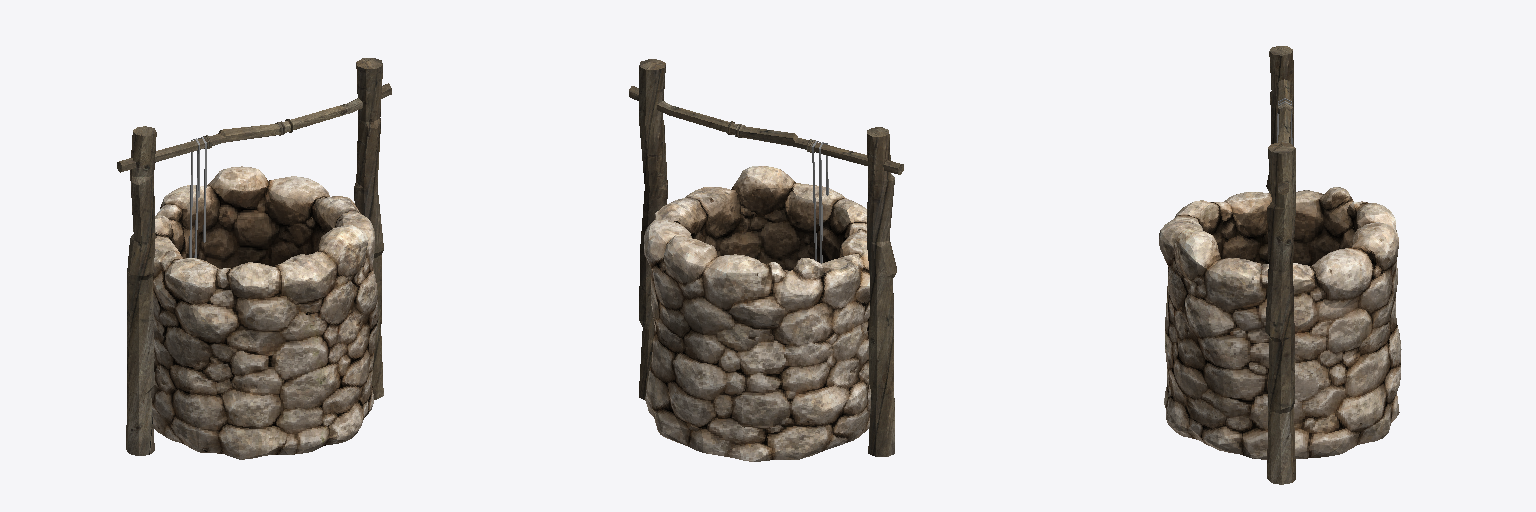
3 renders of one model, left to right at view 1: azimuth 30°, elevation 25°; view 2: azimuth 150°, elevation 25°; view 3: azimuth 270°, elevation 25°, orthographic.
Parts seen in each view (by area): view 1: ����001, polySurface312, ����002; view 2: ����001, polySurface312, ����002; view 3: ����001, polySurface312.
Part boxes in pixels (bbox=[...]): ����001: bbox=[151, 166, 377, 459]; polySurface312: bbox=[117, 58, 391, 455]; ����002: bbox=[189, 137, 206, 257]; ����001: bbox=[644, 166, 870, 461]; polySurface312: bbox=[629, 59, 903, 456]; ����002: bbox=[812, 141, 828, 263]; ����001: bbox=[1159, 187, 1401, 459]; polySurface312: bbox=[1265, 46, 1295, 484].
Bounding box in the file's own units: 30.98 × 36.61 × 24.15.
3 materials, 2 textured.